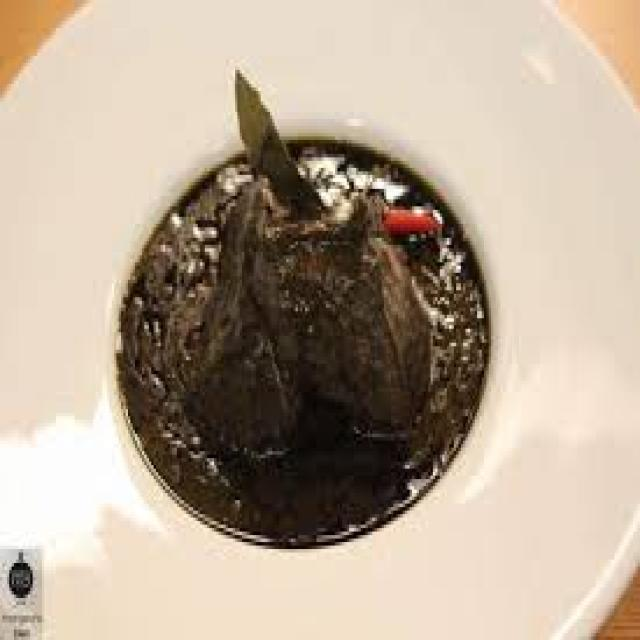Melloukhia: (77, 116, 533, 554)
